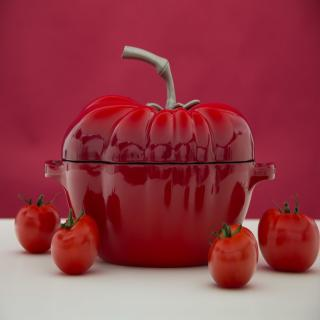tomato: (257, 195, 320, 277), (207, 223, 258, 285), (46, 216, 98, 276), (13, 193, 62, 256)
